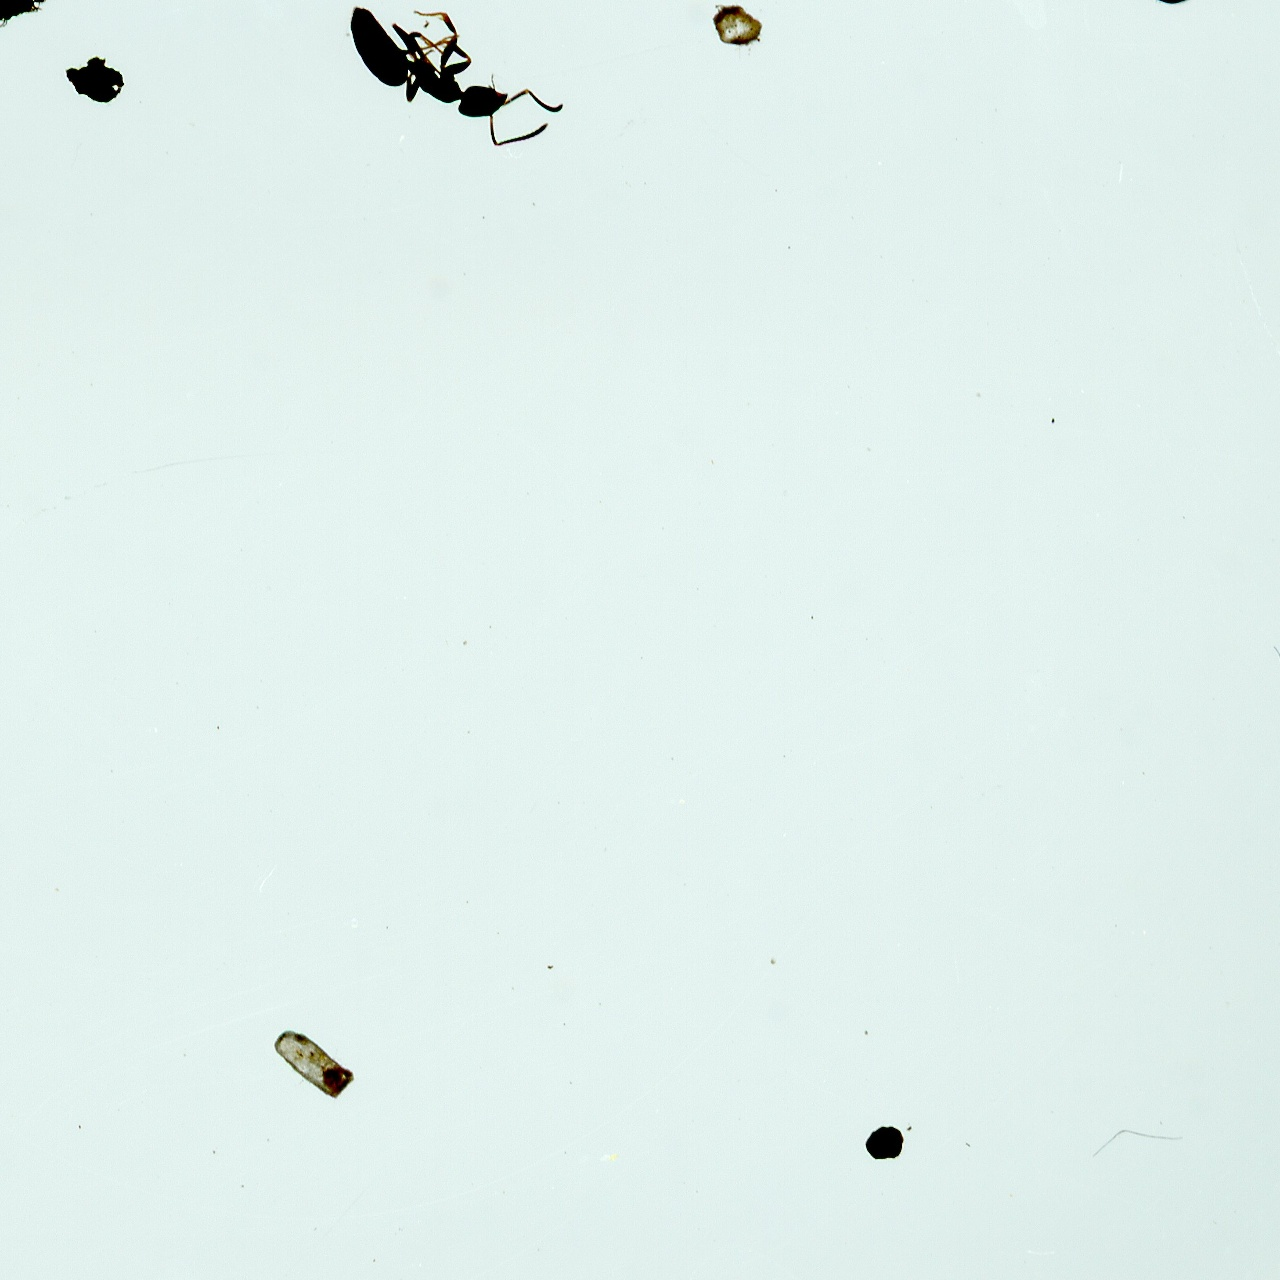arthropod: (316, 0, 571, 173), (1002, 0, 1235, 32)
